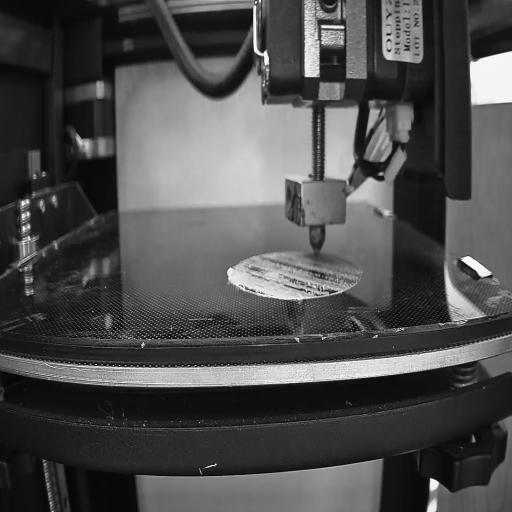under_extrusion: (268, 257, 361, 296), (240, 261, 266, 295)
